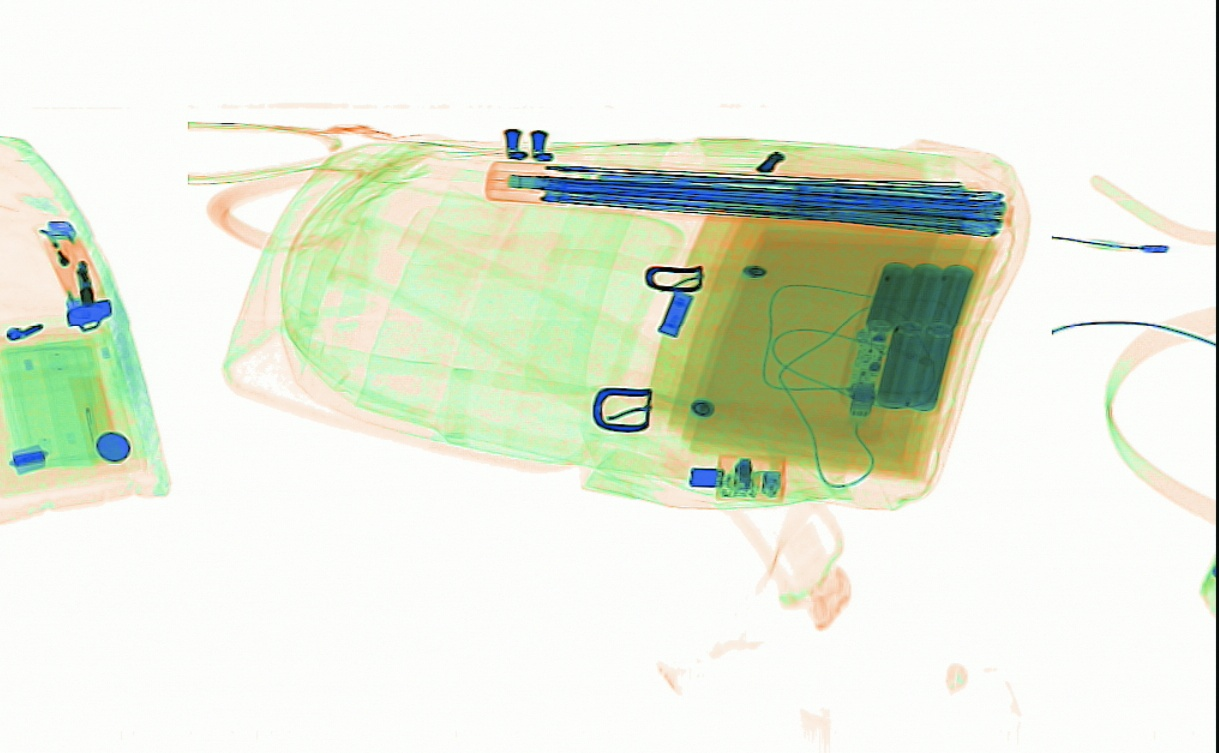lighter: (38, 217, 100, 311)
powerbank: (841, 255, 976, 416)
